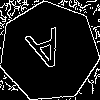A: (23, 26, 70, 81)
